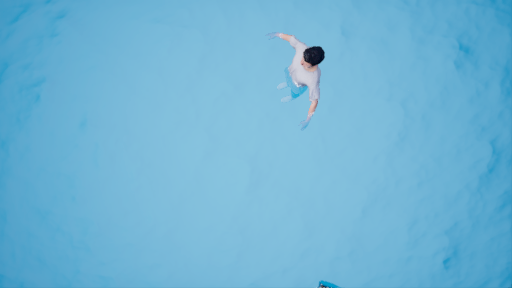person: (259, 31, 324, 136)
